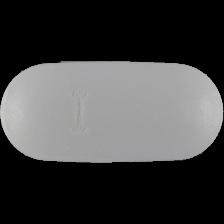42291-630: (0, 0, 224, 224)
